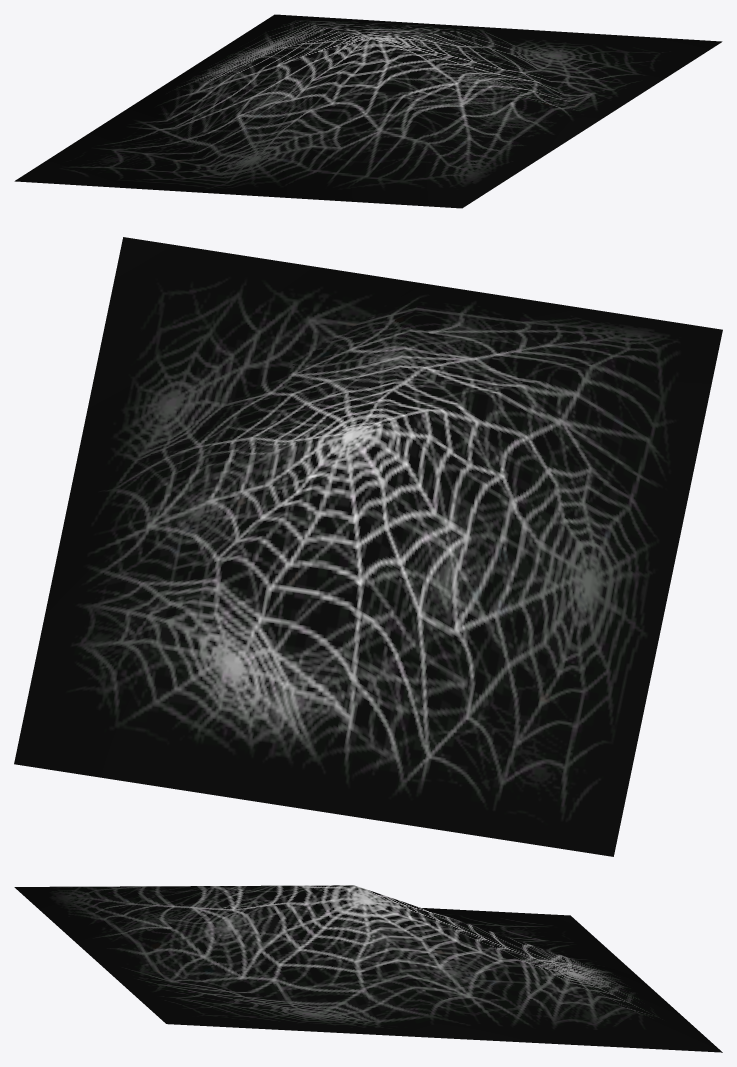
Rendered from MIRKWOOD_PLANE49.fbx.
3 views of the same model, one above another, from view 1: azimuth 30°, elevation 25°; view 2: azimuth 150°, elevation 25°; view 3: azimuth 270°, elevation 25° (orthographic). The views are drawn at different scales.
Visible parts, largest first — view 1: MIRKWOOD_PLANE49; view 2: MIRKWOOD_PLANE49; view 3: MIRKWOOD_PLANE49.
Part boxes in pixels (box(x1,y1,x2,y2)): MIRKWOOD_PLANE49: box(14, 14, 722, 208); MIRKWOOD_PLANE49: box(14, 237, 722, 856); MIRKWOOD_PLANE49: box(14, 885, 722, 1052).
Size of the model in its own units: 179513 by 50696 by 198829.
1 material, 1 textured.
